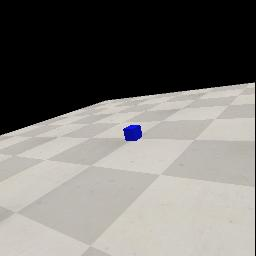box: (123, 125, 142, 141)
